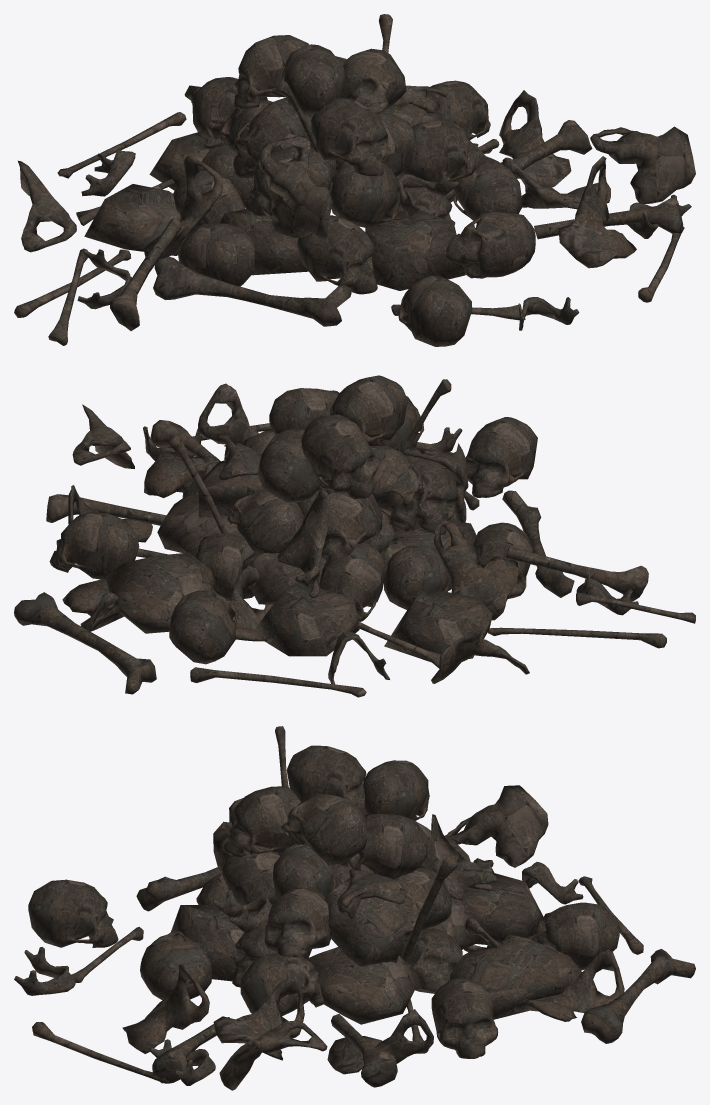
File: aeg277_089.glb
3 views of the same model, one above another, from view 1: azimuth 30°, elevation 25°; view 2: azimuth 150°, elevation 25°; view 3: azimuth 270°, elevation 25° (orthographic).
Visible parts, largest first — view 1: mesh[1], mesh[0]; view 2: mesh[1], mesh[0]; view 3: mesh[1], mesh[0].
Part boxes in pixels (<box>): mesh[1]: <box>14,14,695,346</box>; mesh[0]: <box>84,103,465,290</box>; mesh[1]: <box>14,375,695,697</box>; mesh[0]: <box>105,460,492,661</box>; mesh[1]: <box>14,726,695,1090</box>; mesh[0]: <box>171,836,581,1024</box>.
Bounding box in the file's own units: 2.17 × 0.6732 × 2.04.
2 materials, 2 textured.
